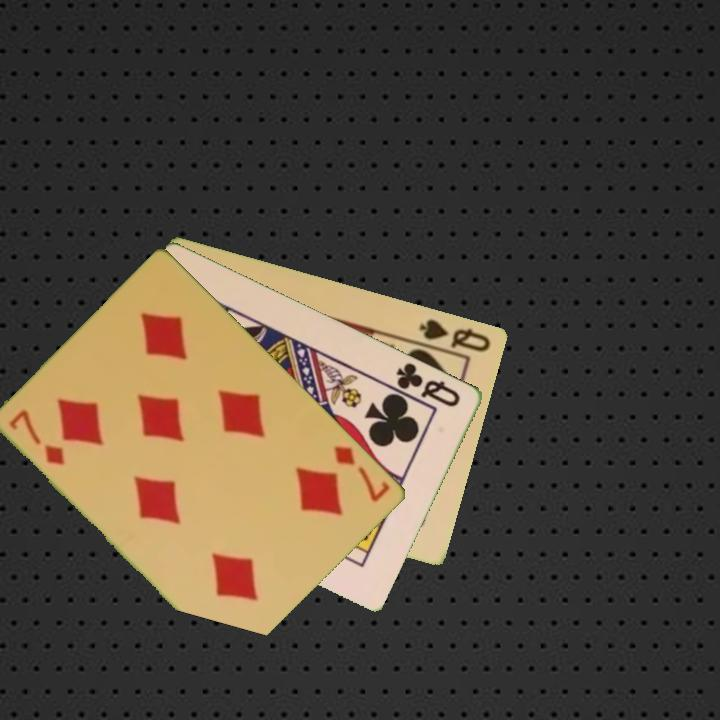7d: (5, 406, 69, 469), (331, 442, 394, 505)
Qc: (393, 359, 464, 410)
Qs: (415, 315, 494, 355)
